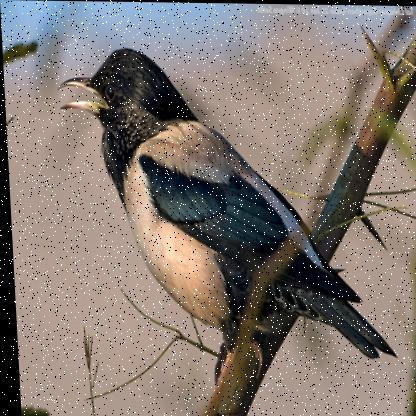Burung: (54, 49, 395, 366)
